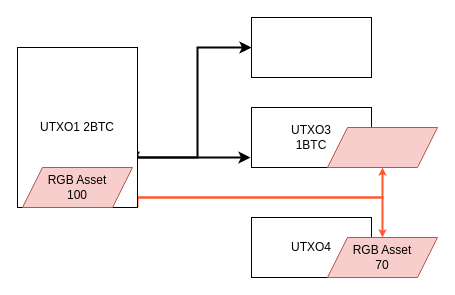
Some shapes in this 455 by 295 pixel diagram are drawn without their labels. Here are the shapes that lost their labels. From the top down, the centre of each, then its label:
At pixel 311 47: "UTXO2 1BTC".
At pixel 382 147: "RGB Asset 30".
